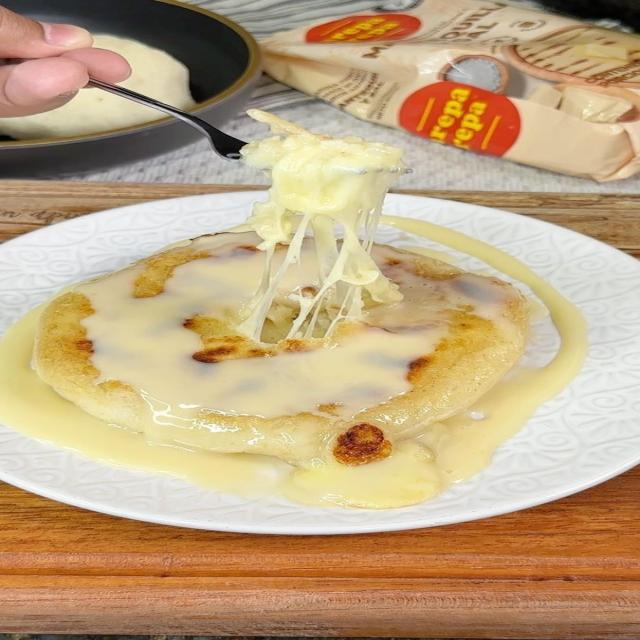arepa: (34, 222, 537, 466)
